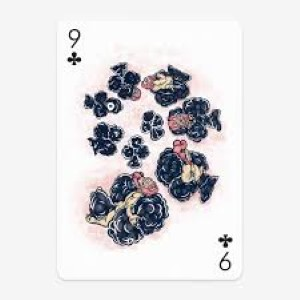NineOfClubs: (54, 17, 244, 283)
